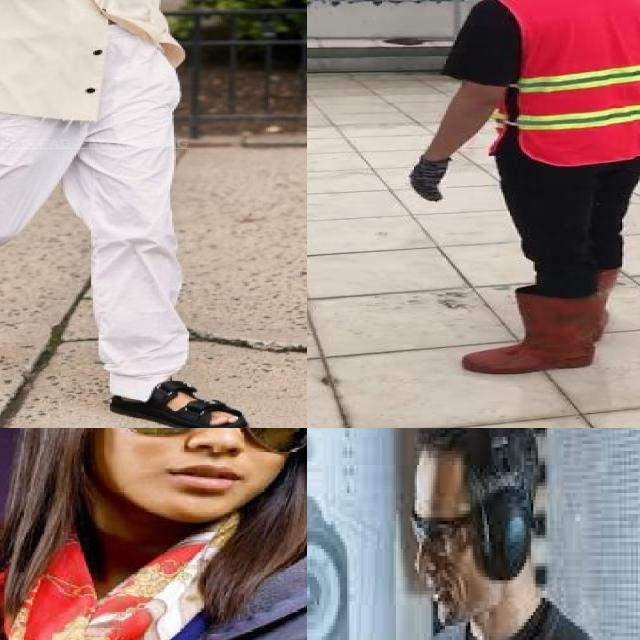Ear-protection: (470, 428, 530, 577)
Sandals: (99, 352, 257, 428)
boots: (464, 290, 599, 373)
face_nomask: (124, 428, 296, 505)
hand_glove: (410, 154, 450, 204)
person: (390, 0, 640, 398), (0, 428, 307, 640)
vest: (492, 0, 640, 160)
